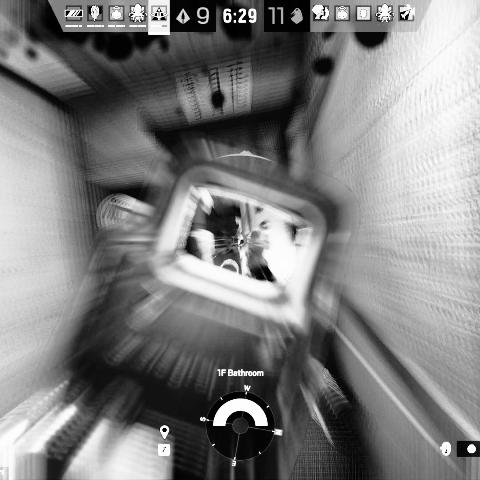Character: (243, 218, 279, 284)
Head: (256, 220, 272, 235)
